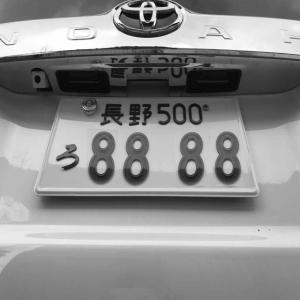Plate: (34, 97, 260, 197)
